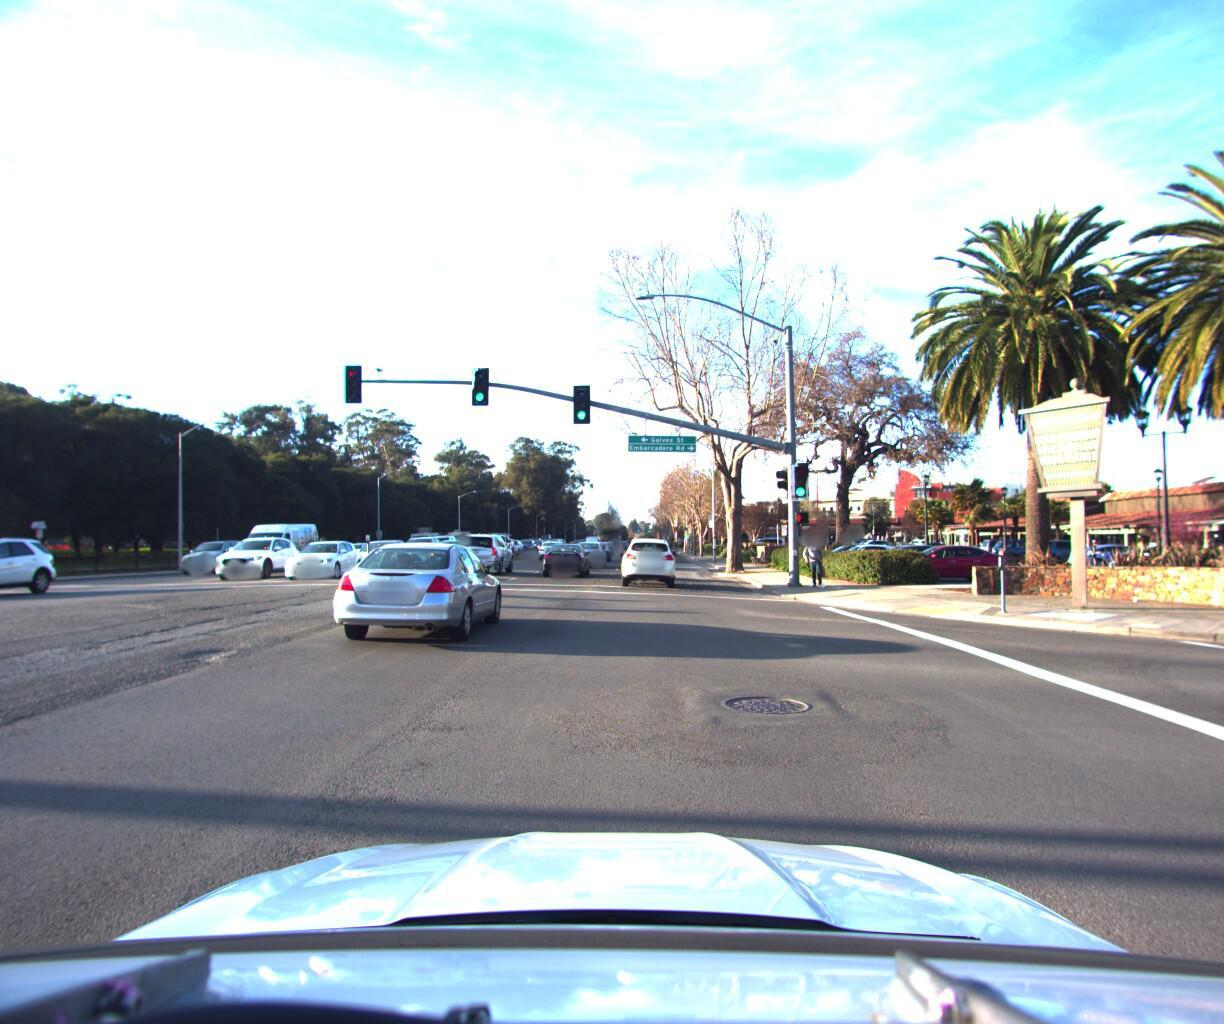car: (334, 538, 510, 653), (883, 535, 1012, 577), (237, 518, 322, 571), (208, 533, 302, 582), (0, 534, 59, 602), (280, 535, 367, 578), (618, 528, 676, 583), (171, 535, 248, 571), (455, 524, 515, 570), (349, 532, 415, 570), (815, 535, 899, 563), (541, 534, 589, 573), (477, 525, 516, 554), (571, 532, 607, 563), (536, 529, 564, 554), (603, 533, 623, 550)
